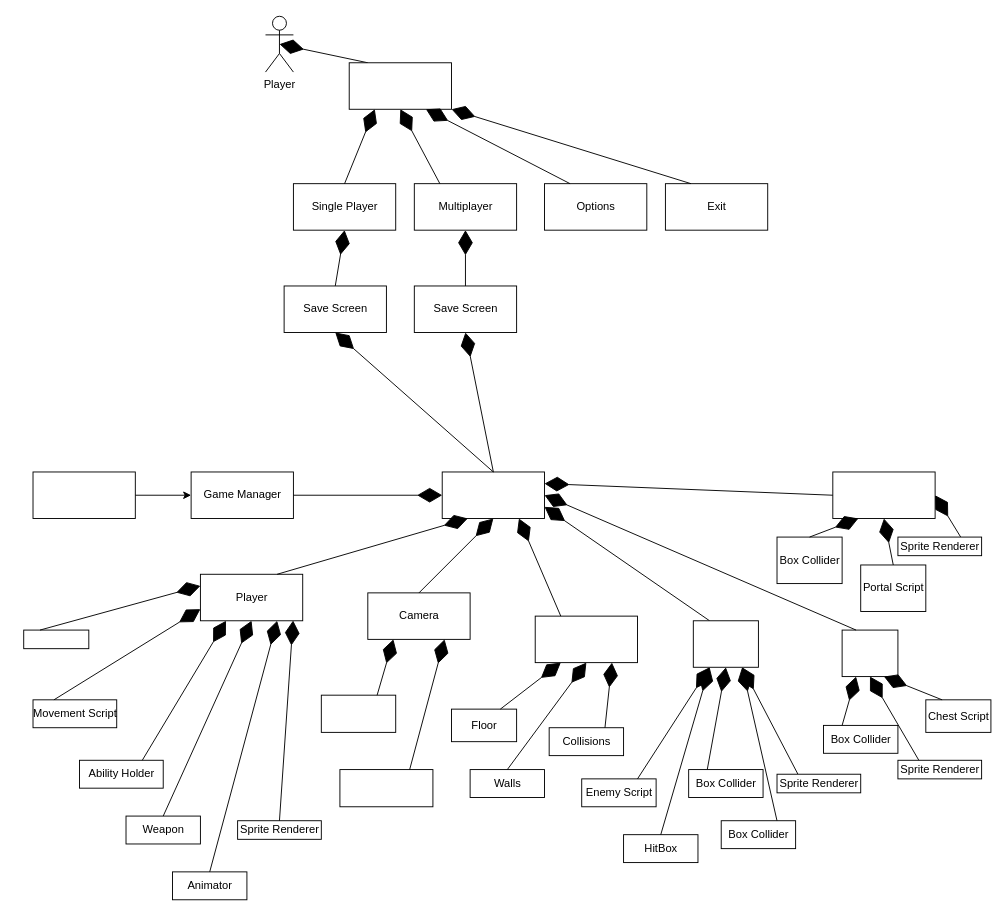
Some shapes in this 1007 by 916 pixel diagram are drawn without their labels. Each missing label, with the box of its shape:
Audio Listener: (320, 694, 396, 732)
Camera Motor Script: (339, 769, 433, 807)
Chest: (841, 629, 898, 677)
Collider2d: (23, 629, 89, 649)
Enemies: (692, 620, 758, 667)
Game Manager Script: (32, 471, 135, 518)
Grid: (534, 615, 638, 663)
Portal: (832, 471, 935, 518)
Start Menu: (348, 62, 452, 109)
Start Scene: (441, 471, 545, 518)
